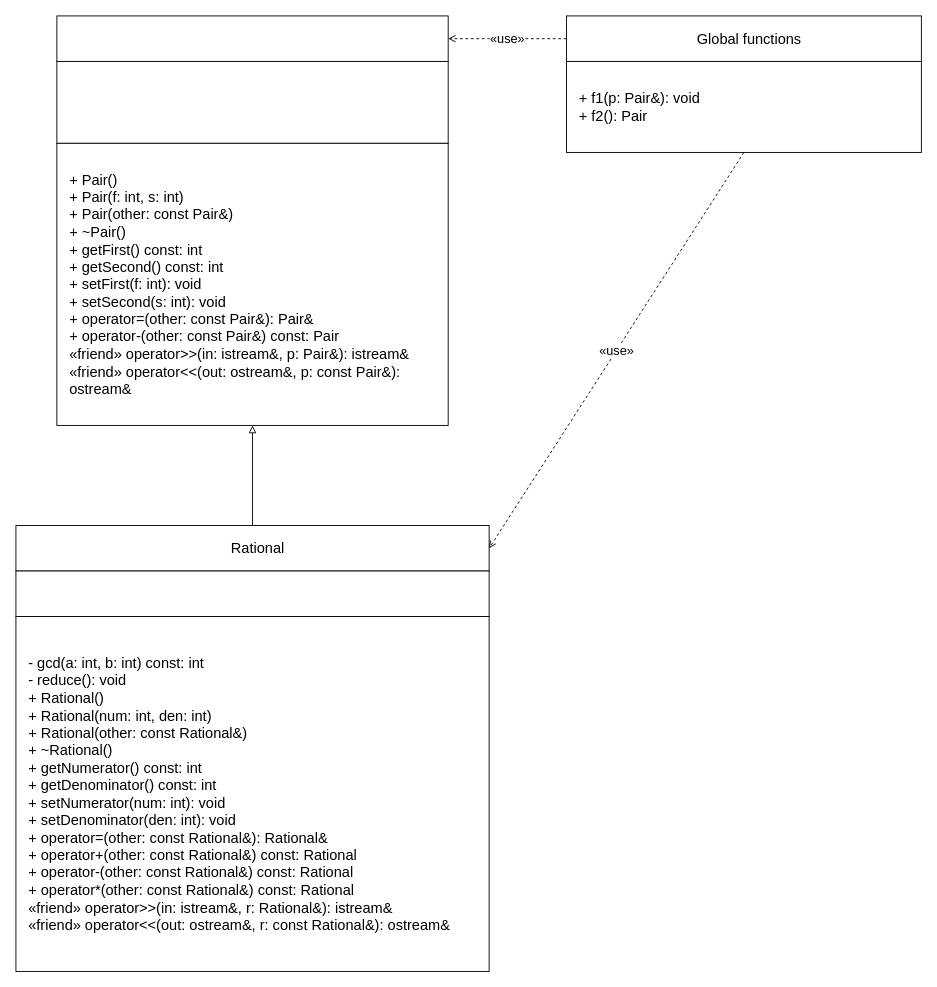
Image size: 937x987. Some labels were removed from this diagram. Each missing label, with the box of its shape:
# first: int # second: int: (56, 61, 448, 143)
Pair: (56, 15, 448, 61)
